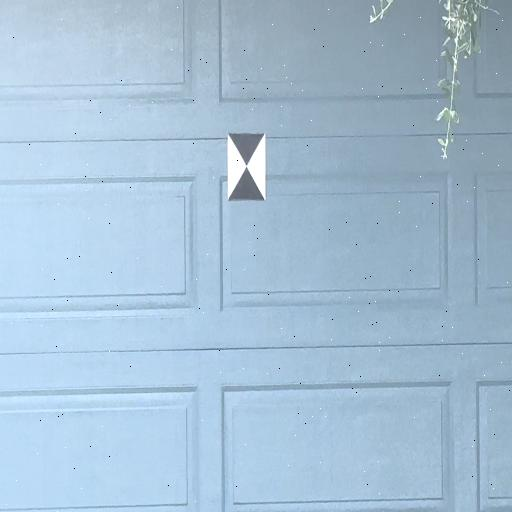target: (228, 134, 265, 202)
